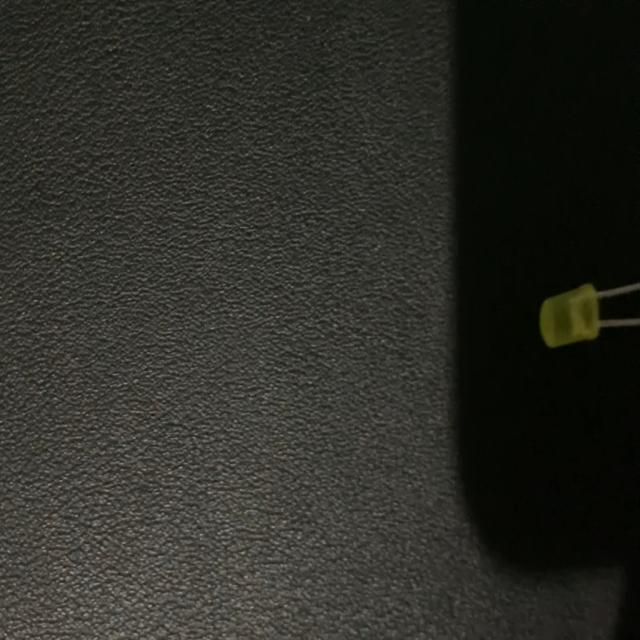LED: (536, 278, 640, 352)
